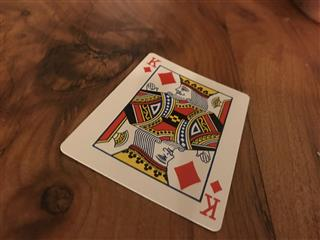KingOfDiamonds: (58, 51, 250, 231)
